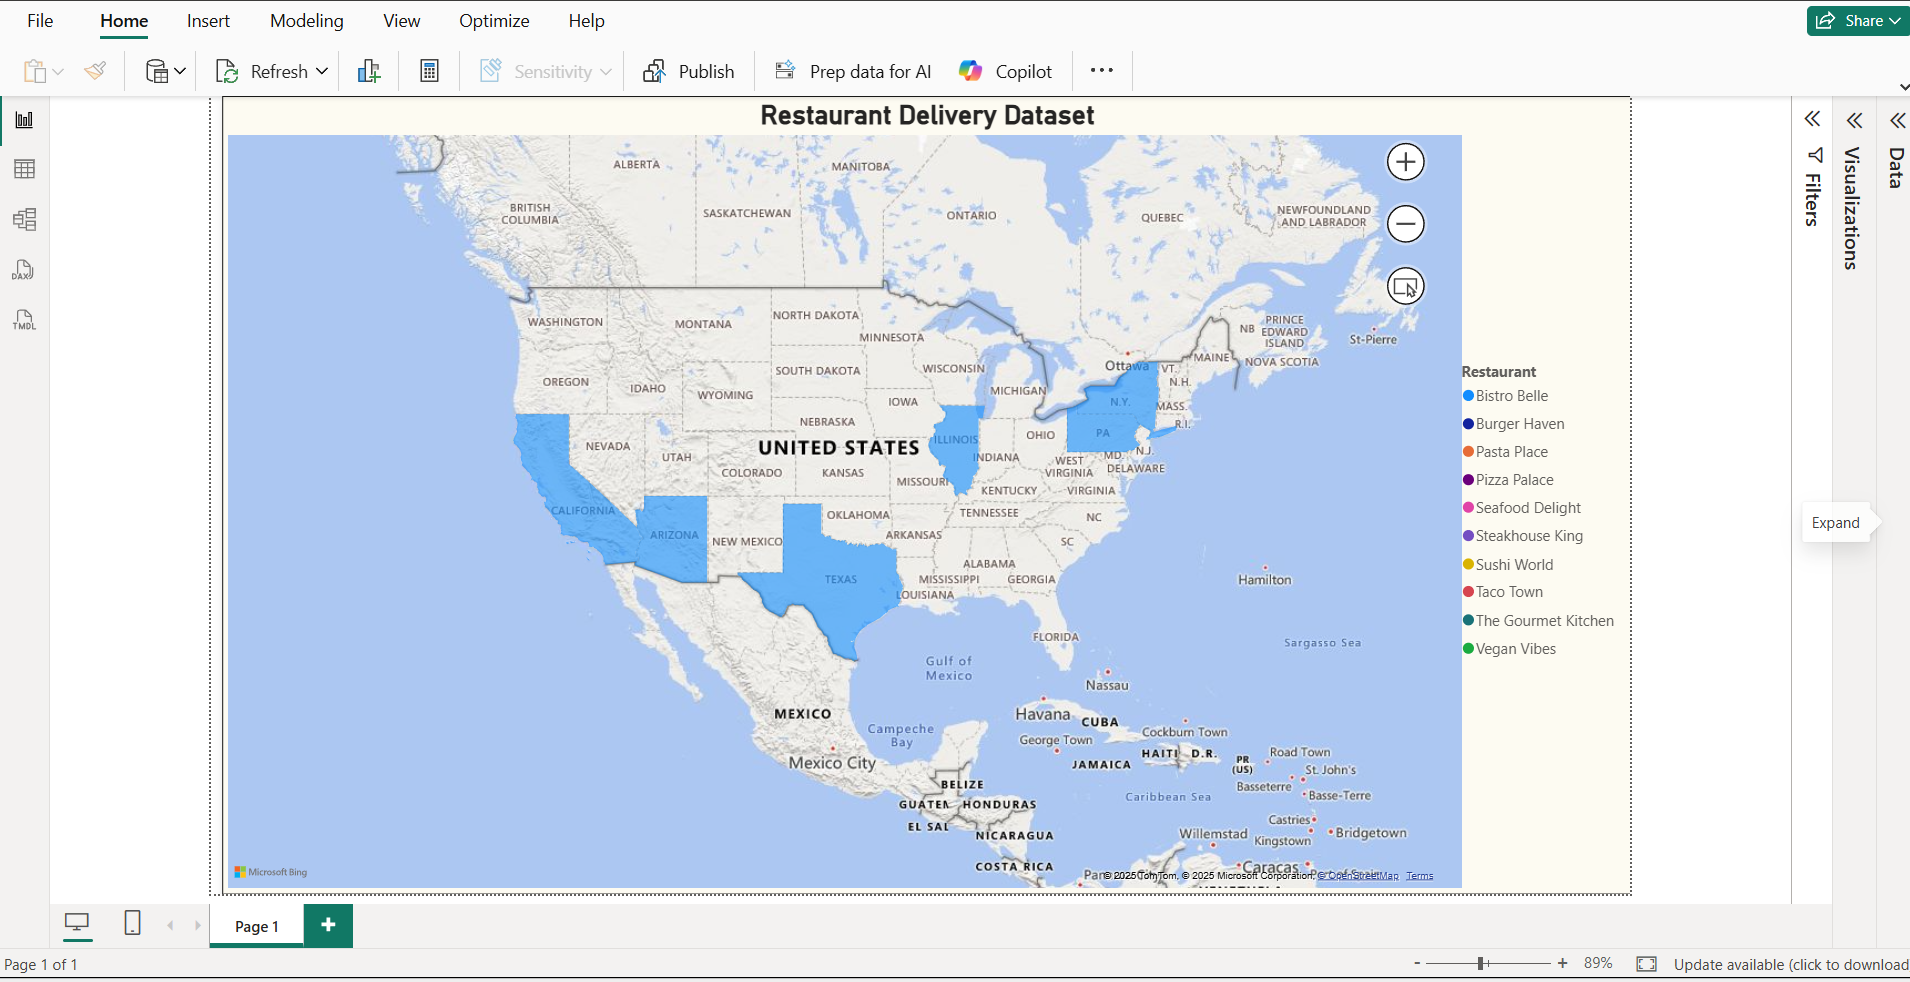

The page's visual inventory and layout, read from the dashboard file:
{"tool":"powerbi","page":{"name":"Page 1","canvas":[1280,720],"ordinal":0},"visuals":[{"type":"filledMap","title":"Restaurant Delivery Dataset ","fields":{"Series":["delivery_data_with_restaurants latitude and long.restaurant"],"Category":["delivery_data_with_restaurants latitude and long.state"],"Y":["Avg(delivery_data_with_restaurants latitude and long.latitude)"],"X":["Avg(delivery_data_with_restaurants latitude and long.longitude)"]},"box":[0,0,1270.3,720.2],"z":0}]}

Visuals, with their boxes on the page's 1280x720 design canvas (x1, y1, x2, y2). These are canvas units, not pixel positions in the 1910x982 screenshot, which may show the page scaled, cropped or inside an application window:
"Restaurant Delivery Dataset " filledMap: select_region(0, 0, 1270, 720)
